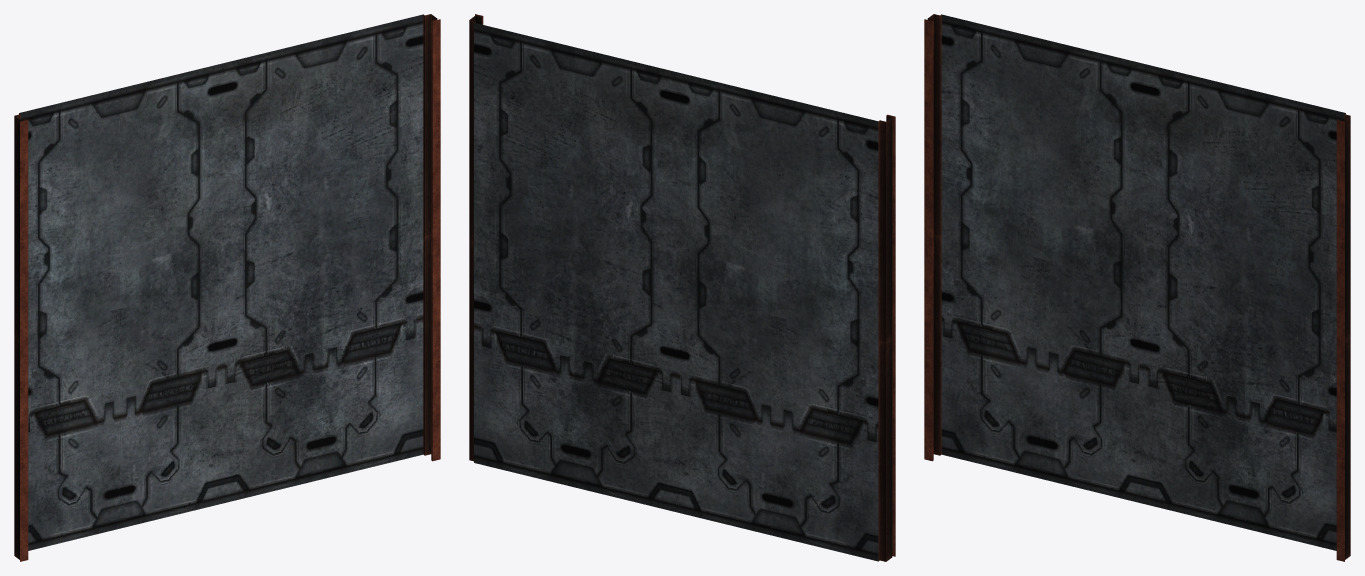
The model's file is flat.dae.
3 renders of one model, left to right at view 1: azimuth 30°, elevation 25°; view 2: azimuth 150°, elevation 25°; view 3: azimuth 330°, elevation 25°, orthographic.
Parts seen in each view (by area): view 1: polySurface711, polySurface718; view 2: polySurface711, polySurface718; view 3: polySurface711, polySurface718.
Boxes of the visible parts, x1,y1,x2,y2 form: polySurface711: [19, 14, 423, 550]; polySurface718: [14, 14, 440, 561]; polySurface711: [474, 22, 878, 561]; polySurface718: [469, 14, 895, 561]; polySurface711: [941, 14, 1345, 550]; polySurface718: [924, 14, 1350, 561].
Bounding box in the file's own units: 4 × 4 × 0.1506.
